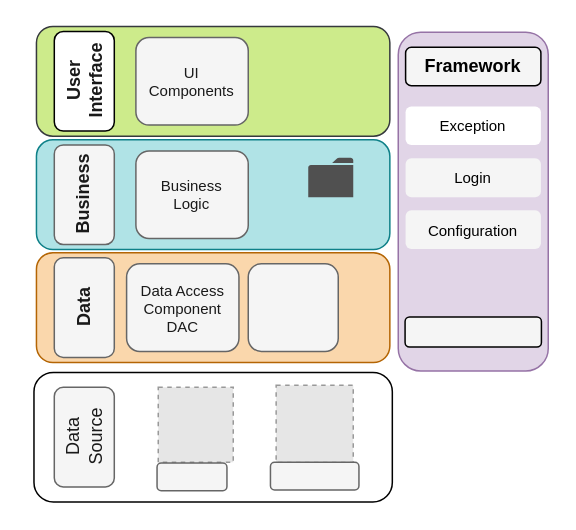
Some shapes in this 576 by 530 pixel diagram are drawn without their labels. Grey dashed boxes stand in for pictures. The shapes that lost their labels are listed below. From the top down, each one's centre as x and y in pixels, then its label:
(x=330, y=176): Entities
(x=292, y=306): Data Helper
(x=473, y=331): Utility
(x=191, y=476): SQLite
(x=314, y=475): Database
